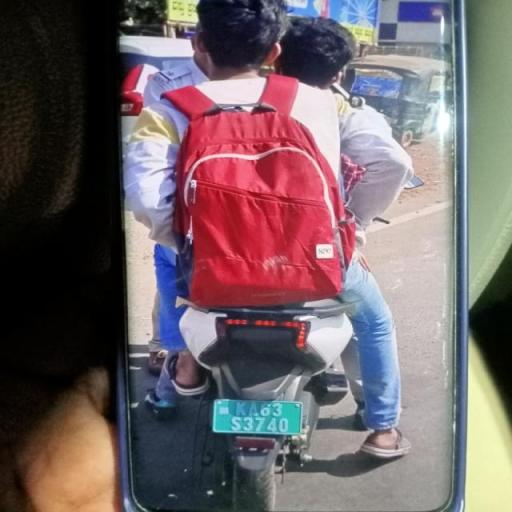numberplate: (218, 398, 300, 438)
withouthelmet: (128, 0, 436, 512), (197, 1, 277, 72), (280, 16, 348, 80)
